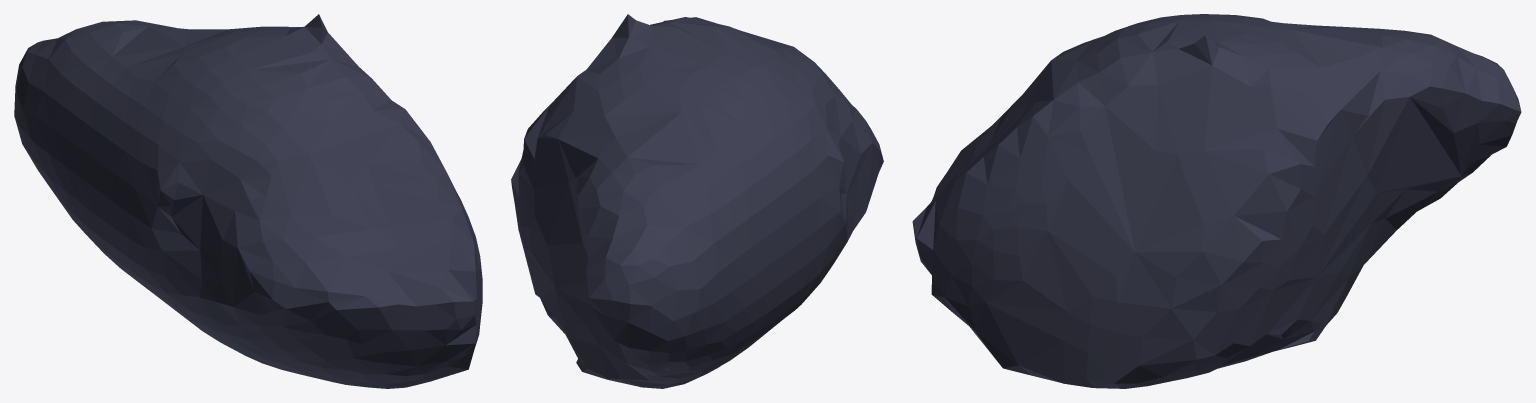
Rendered from Model_262_RH__Anteromedial_thalamic_nucleus_(AM).obj.
The picture shows the model from 3 angles, left to right: view 1: azimuth 30°, elevation 25°; view 2: azimuth 150°, elevation 25°; view 3: azimuth 270°, elevation 25°; orthographic projection. The views are drawn at different scales.
Bounding box in the file's own units: 1.02 × 1.09 × 1.81.
